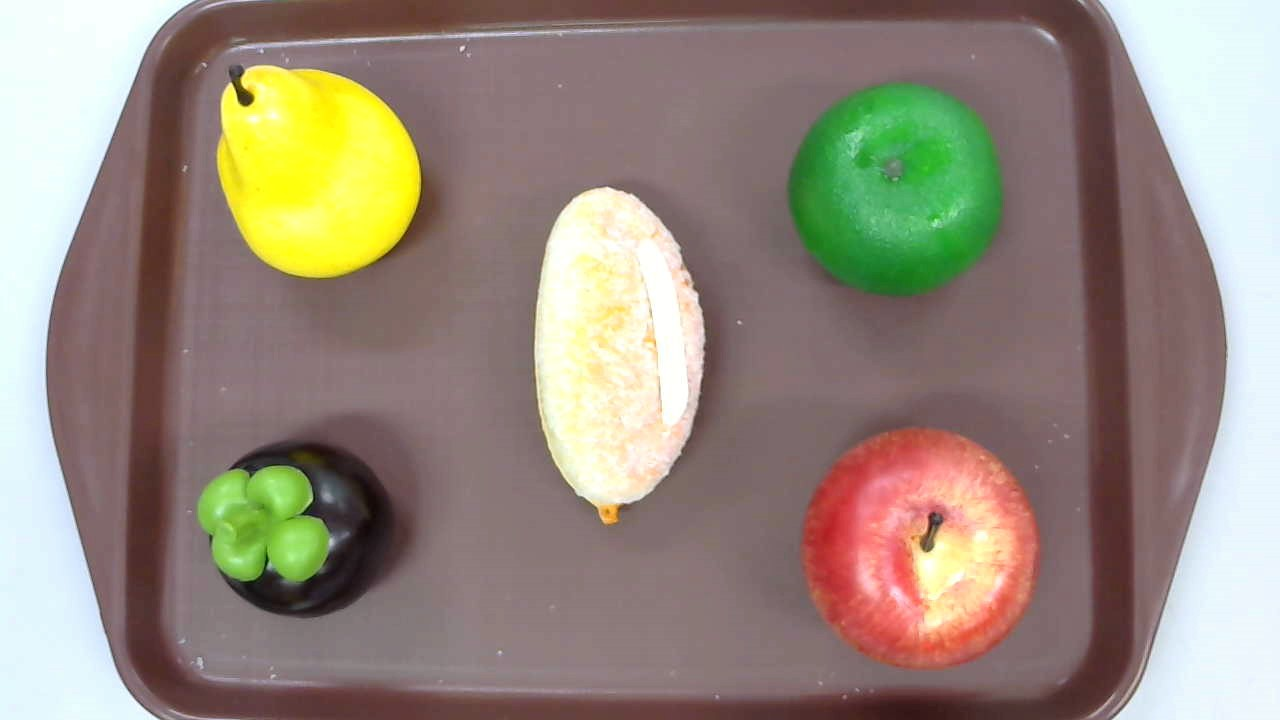coconut: (534, 186, 705, 524)
green orange: (789, 82, 1003, 299)
mangosteen: (197, 441, 399, 622)
red apple: (801, 424, 1043, 671)
yellow pear: (215, 64, 422, 278)
